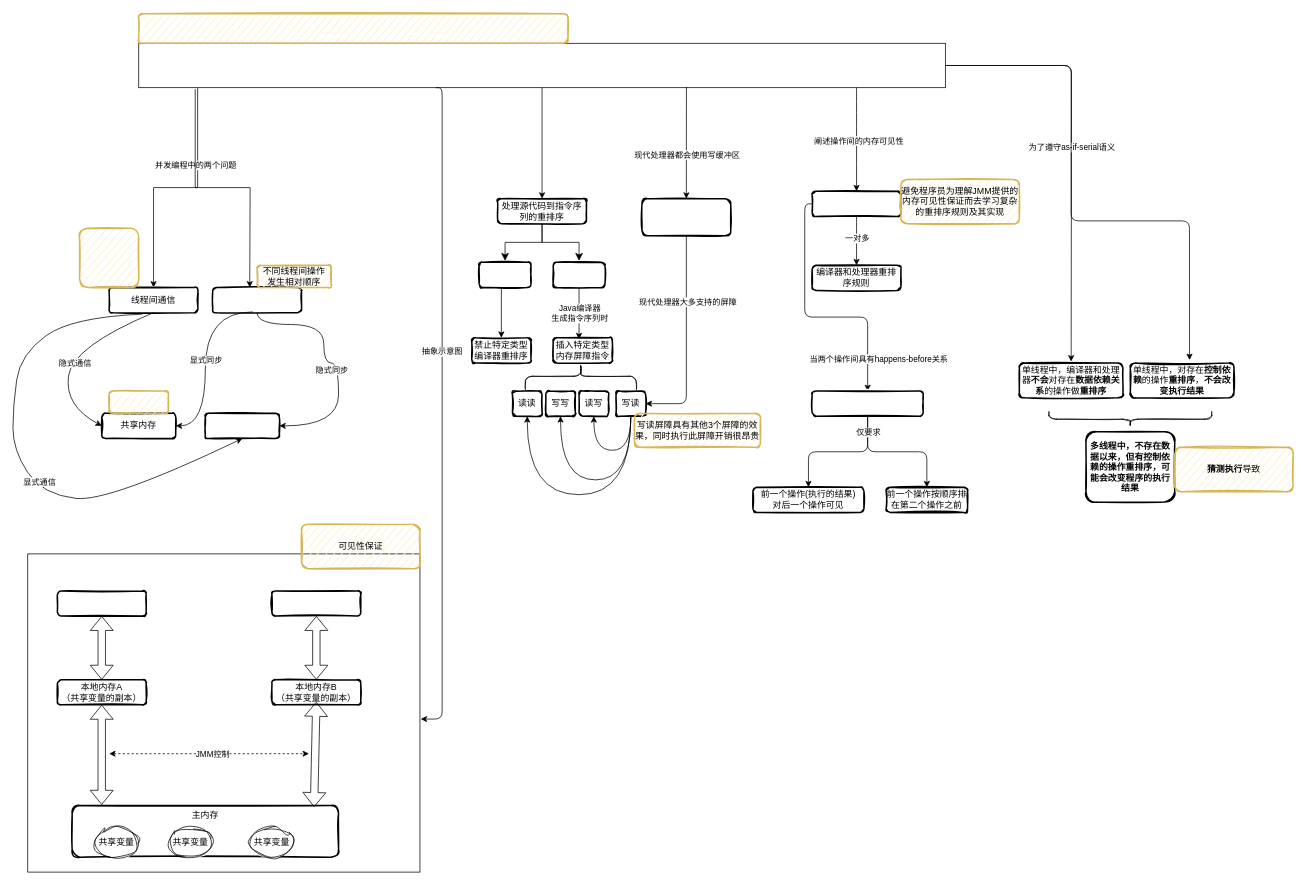
The diagram is 1307 pixels wide and 885 high, and some of its shapes have lost their labels. Each missing label, with the centre of its shape:
"happens-before规则" goes at point 856,203.
"Java内存模型" goes at point 541,65.
"Java并发采用" goes at point 138,402.
"JMM处理器重排序规则" goes at point 578,274.
"JMM编译器重排序规则" goes at point 504,274.
"允许对写-读操作进行重排序" goes at point 686,217.
"并不意味前一个操作必须在后一个操作前执行" goes at point 867,403.
"消息传递" goes at point 242,425.
"线程A" goes at point 101,603.
"线程B" goes at point 316,603.
"线程间以何种机制交换信息" goes at point 108,257.
"线程间同步" goes at point 257,299.
"（语言级的内存模型，确保在不同的编译器和不同处理器平台上，为程序员提供一致的内存可见性保证）" goes at point 353,28.
